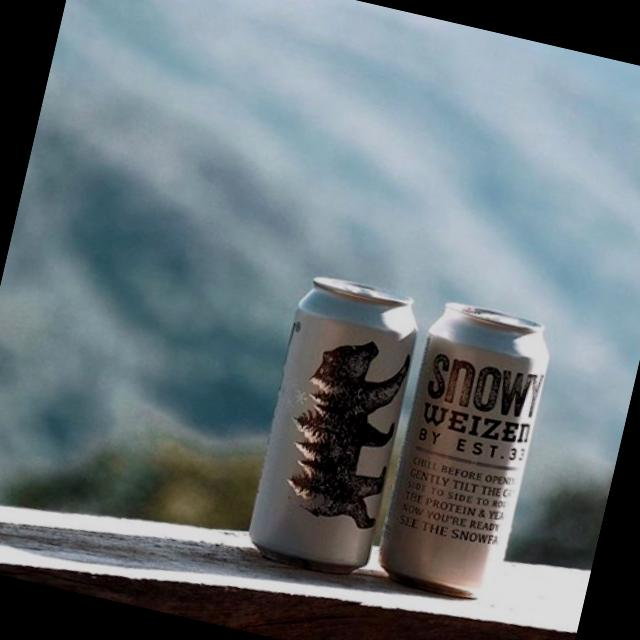can: (238, 267, 432, 583), (367, 296, 558, 608)
